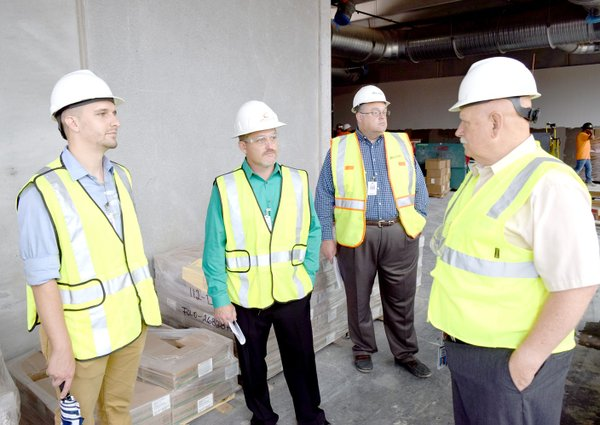Helmet: (433, 53, 548, 169), (45, 65, 131, 164), (224, 94, 301, 186), (348, 80, 401, 145)
Reflective vest: (424, 141, 594, 358), (17, 146, 166, 366), (209, 163, 319, 313), (326, 127, 431, 252)
